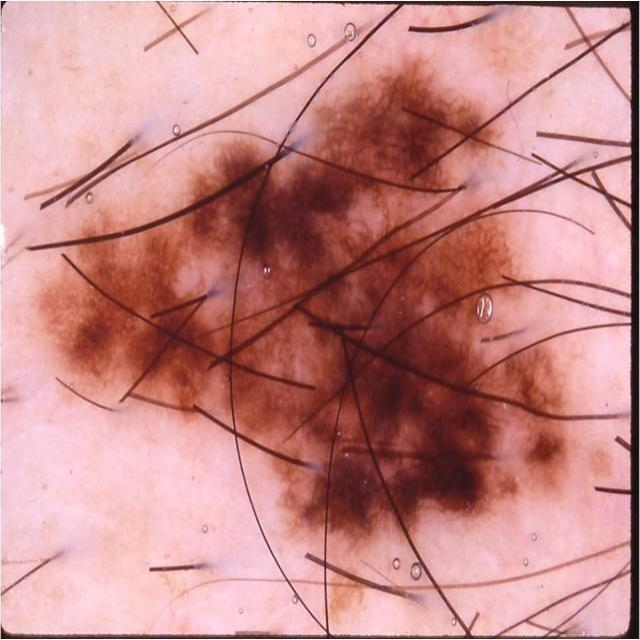Benign: (39, 53, 575, 552)
